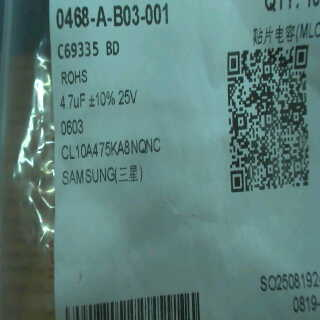4.7uF: (57, 91, 87, 112)
